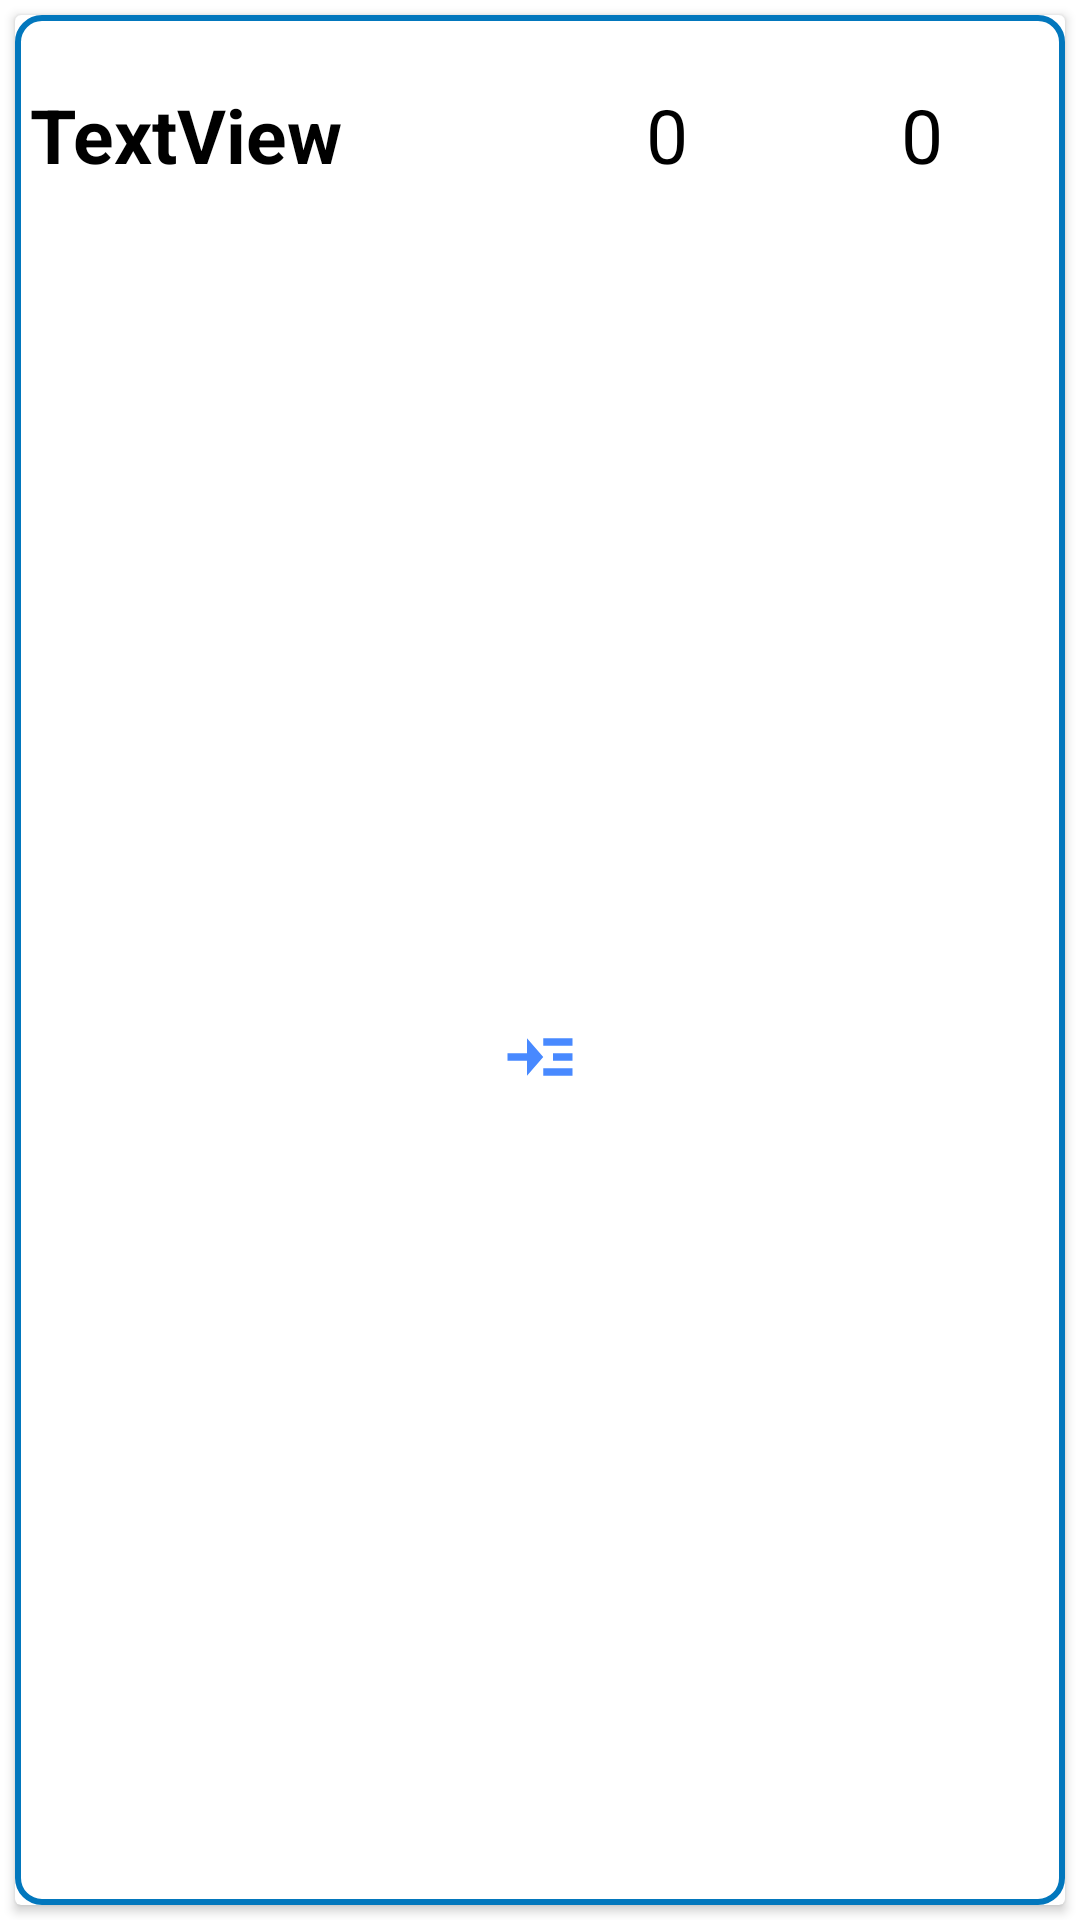

Icons on this 1080 x 1920 Android screen, each with the point to tap as (x,y):
read more: (540,1057)
